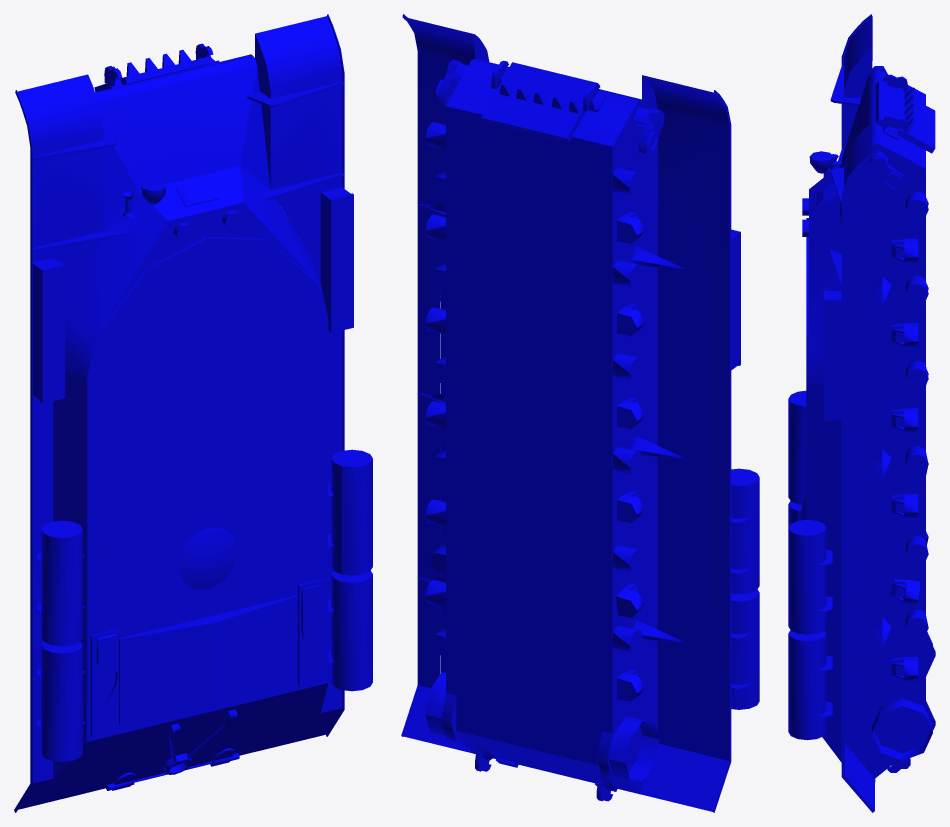
Rendered from Hull.obj.
3 views of the same model, side by side, from view 1: azimuth 30°, elevation 25°; view 2: azimuth 150°, elevation 25°; view 3: azimuth 270°, elevation 25° (orthographic). The views are drawn at different scales.
Visible parts, largest first — view 1: 3D_Object_1; view 2: 3D_Object_1; view 3: 3D_Object_1.
Boxes of the visible parts, x1=… form: 3D_Object_1: x1=14, y1=14, x2=372, y2=812; 3D_Object_1: x1=401, y1=14, x2=759, y2=812; 3D_Object_1: x1=788, y1=14, x2=935, y2=812.
Size of the model in its own units: 3.21 by 6.82 by 1.37.
